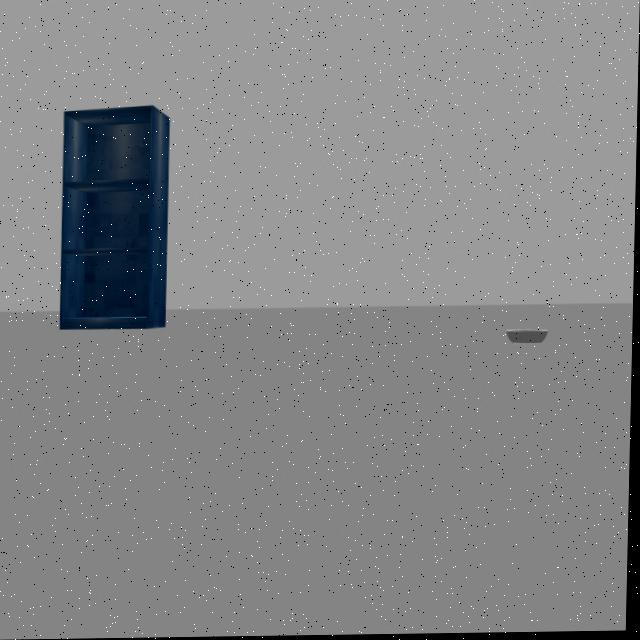bowl: (491, 312, 561, 355)
shelf: (41, 78, 197, 353)
